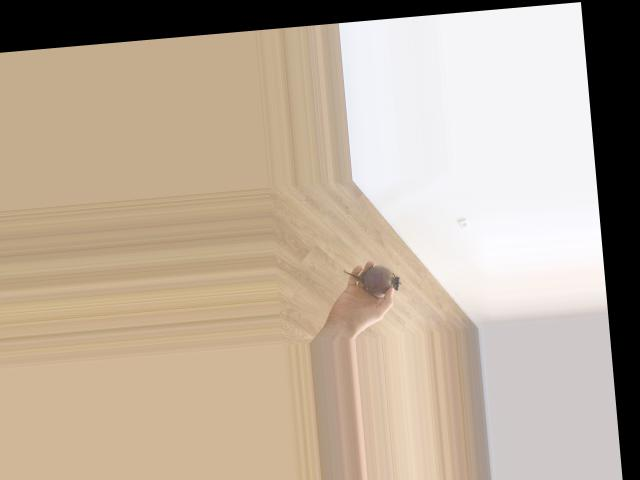beet: (343, 262, 401, 300)
